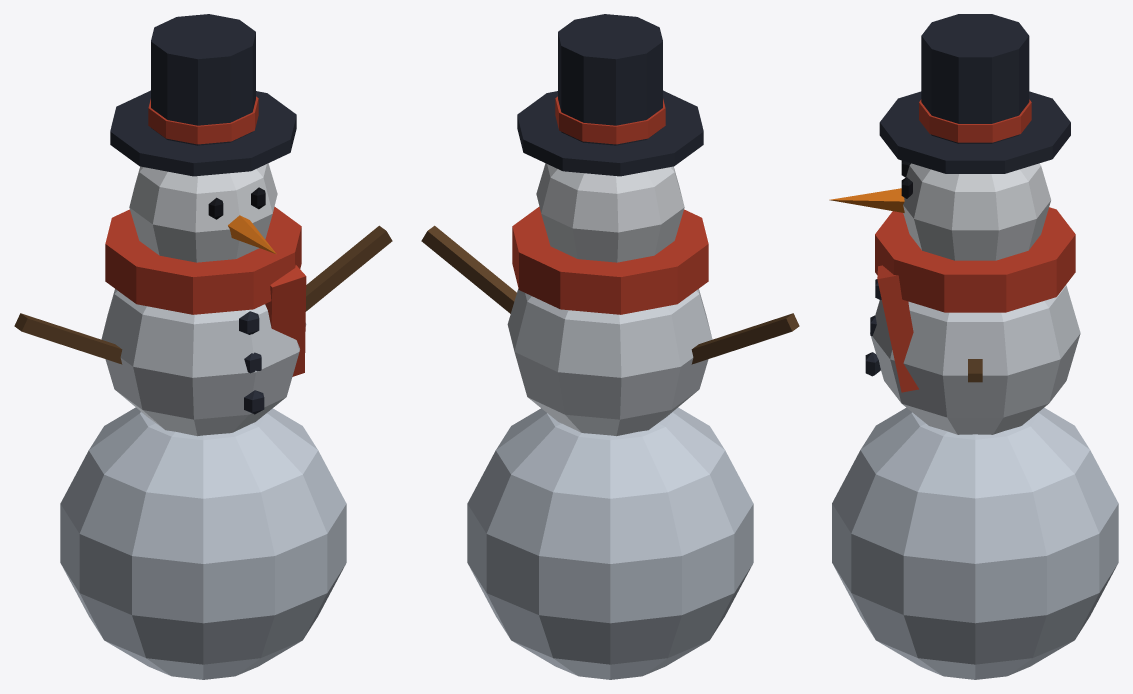
The model's file is prop_snowman.glb.
3 renders of one model, left to right at view 1: azimuth 30°, elevation 25°; view 2: azimuth 150°, elevation 25°; view 3: azimuth 270°, elevation 25°, orthographic.
Visible parts, largest first — view 1: snowman; view 2: snowman; view 3: snowman.
Part boxes in pixels (bbox=[...]): snowman: bbox=[14, 14, 392, 679]; snowman: bbox=[421, 14, 799, 679]; snowman: bbox=[829, 14, 1118, 679].
Bounding box in the file's own units: 1.75 × 2.84 × 1.18.
